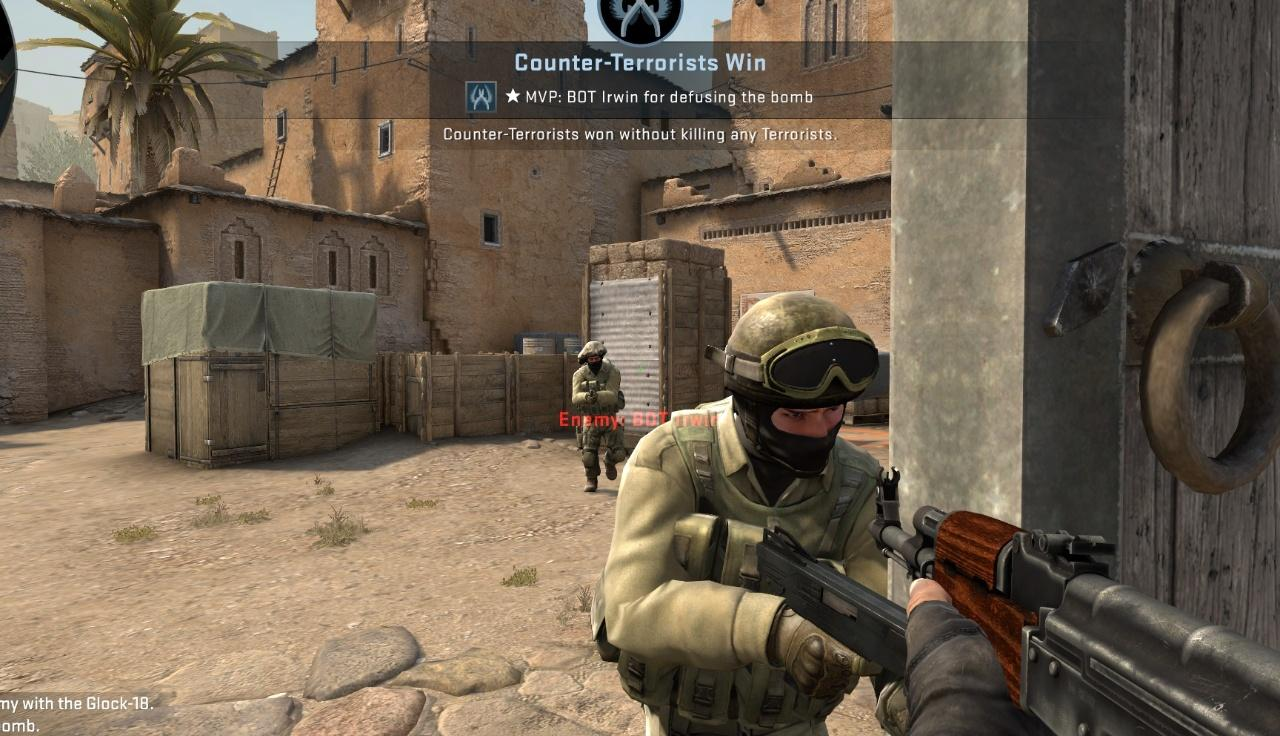ct: (603, 293, 901, 736), (571, 341, 627, 488)
cthead: (726, 296, 859, 476), (583, 342, 604, 371)
rifle: (869, 463, 1280, 736)
